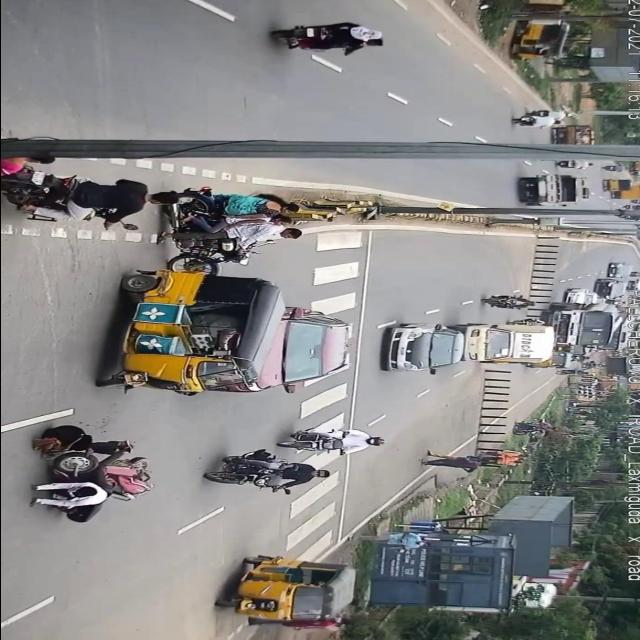accident: (20, 415, 172, 525)
non_accident: (377, 285, 620, 375), (589, 261, 631, 299), (593, 174, 639, 202)
